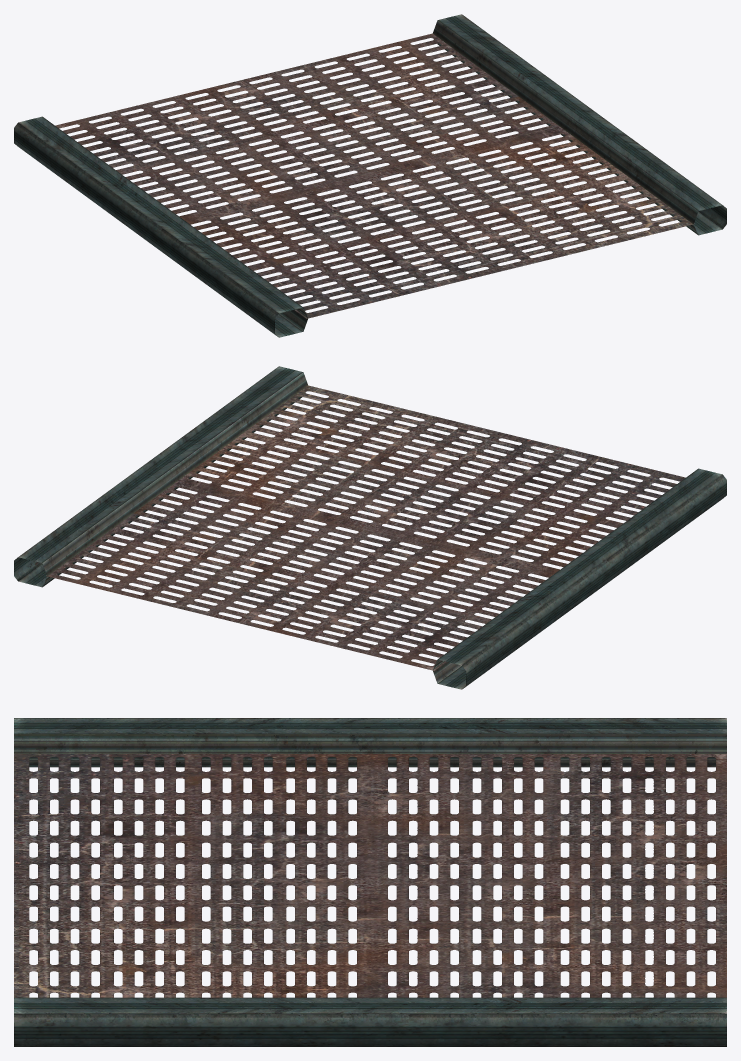
File: Walkway02.DAE
3 renders of one model, top to bottom at view 1: azimuth 30°, elevation 25°; view 2: azimuth 150°, elevation 25°; view 3: azimuth 270°, elevation 25°, orthographic. The views are drawn at different scales.
Visible parts, largest first — view 1: Plane002; view 2: Plane002; view 3: Plane002.
Boxes of the visible parts, x1,y1,x2,y2 form: Plane002: (14, 14, 726, 337); Plane002: (14, 366, 726, 689); Plane002: (14, 718, 726, 1046).
Bounding box in the file's own units: 2 × 0.1026 × 2.
